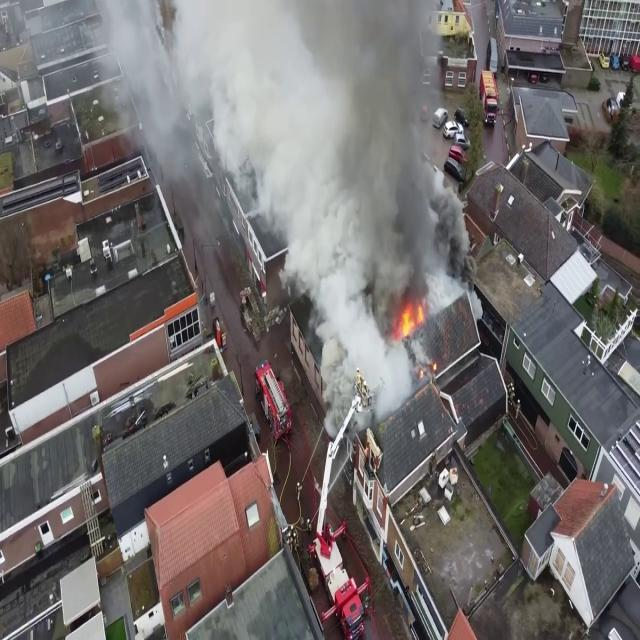Fire: (396, 292, 428, 345)
Smoke: (225, 0, 470, 392), (92, 0, 470, 192)
